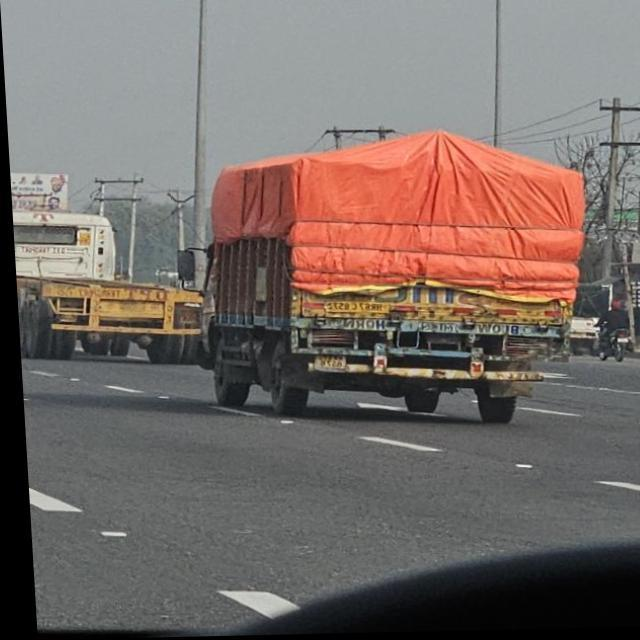covered: (195, 134, 605, 422)
uncovered: (18, 212, 178, 368)
